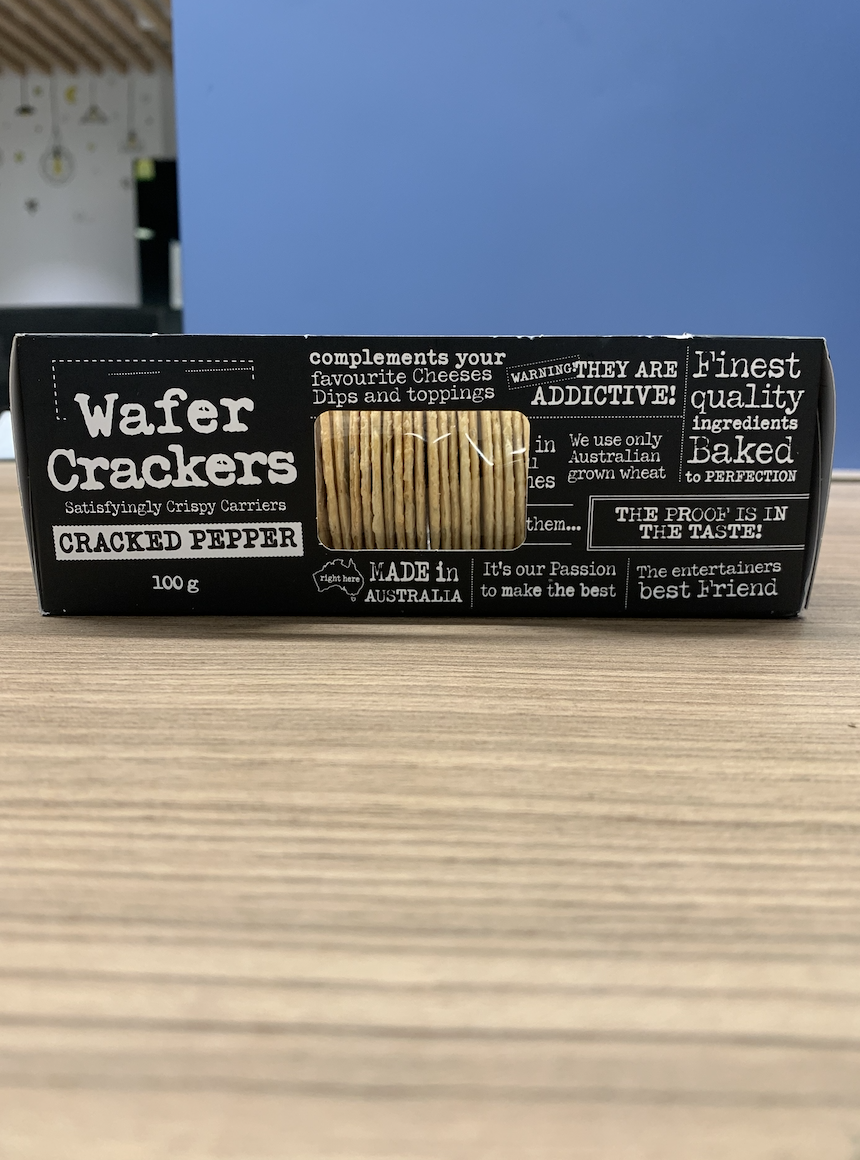crackers_100g-199g: (32, 337, 812, 612)
